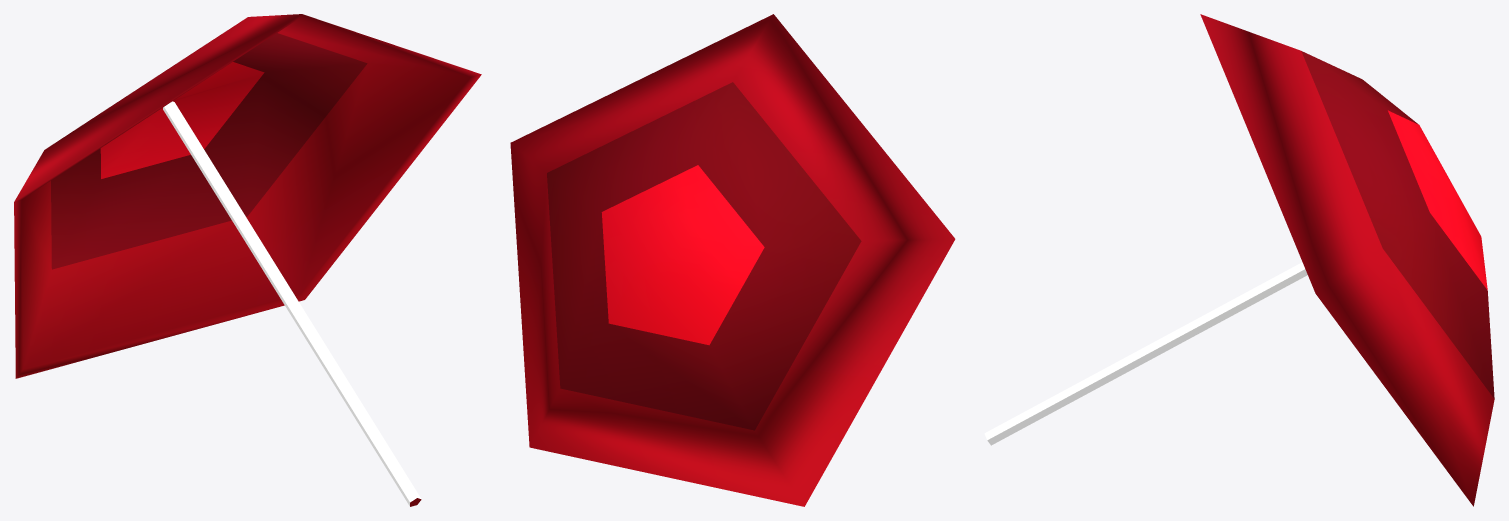
File: BeachUmbrellaOnGroundRed.glb
3 views of the same model, side by side, from view 1: azimuth 30°, elevation 25°; view 2: azimuth 150°, elevation 25°; view 3: azimuth 270°, elevation 25° (orthographic). The views are drawn at different scales.
Visible parts, largest first — view 1: BeachUmbrellaOnGroundRed; view 2: BeachUmbrellaOnGroundRed; view 3: BeachUmbrellaOnGroundRed.
Part boxes in pixels (x1,y1,x2,y2): BeachUmbrellaOnGroundRed: [14, 14, 481, 506]; BeachUmbrellaOnGroundRed: [510, 14, 955, 506]; BeachUmbrellaOnGroundRed: [984, 14, 1494, 506].
Size of the model in its own units: 2.42 by 2.01 by 2.18.
1 material, 1 textured.
